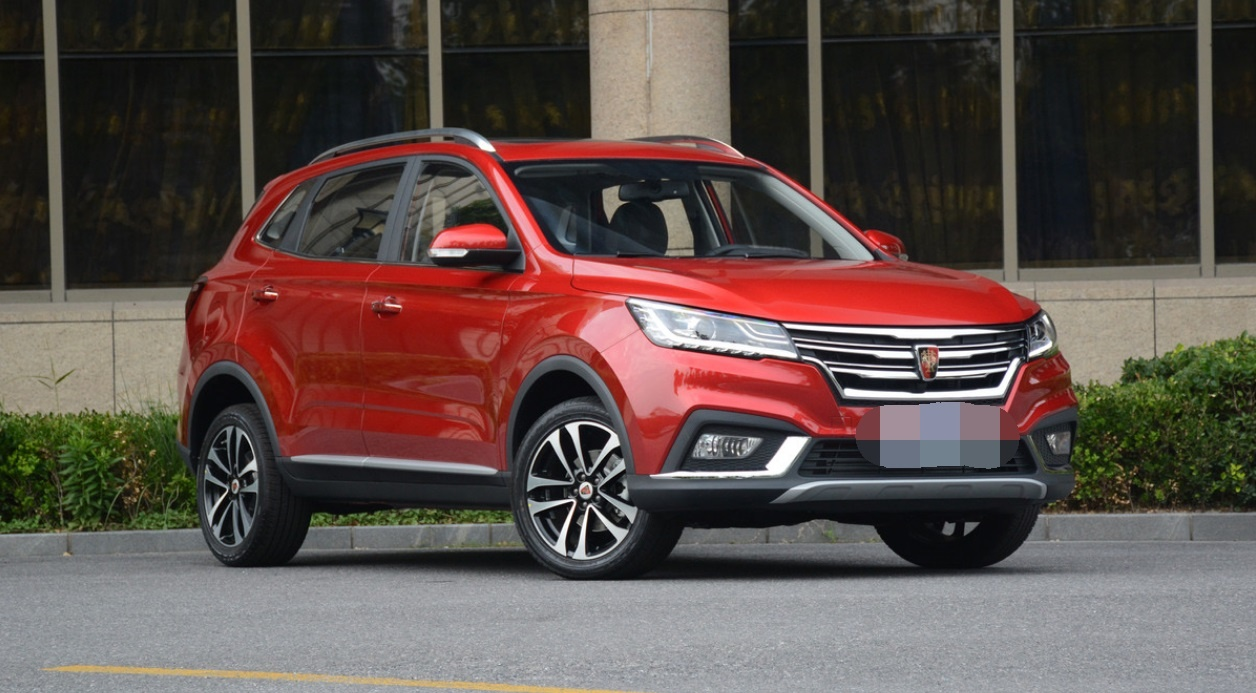SUV: (161, 108, 1096, 601)
